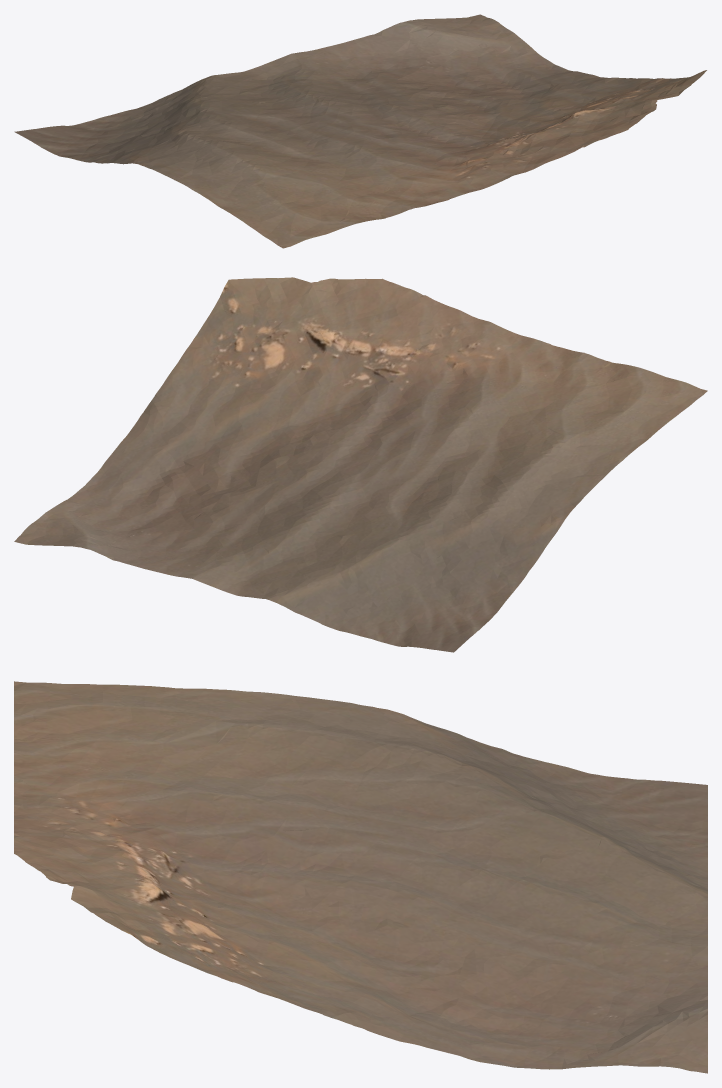
The picture shows the model from 3 angles, top to bottom: view 1: azimuth 30°, elevation 25°; view 2: azimuth 150°, elevation 25°; view 3: azimuth 270°, elevation 25°; orthographic projection. The views are drawn at different scales.
Bounding box in the file's own units: 1.04 × 0.2631 × 1.04.
Materials: 2 (2 with a texture image).
